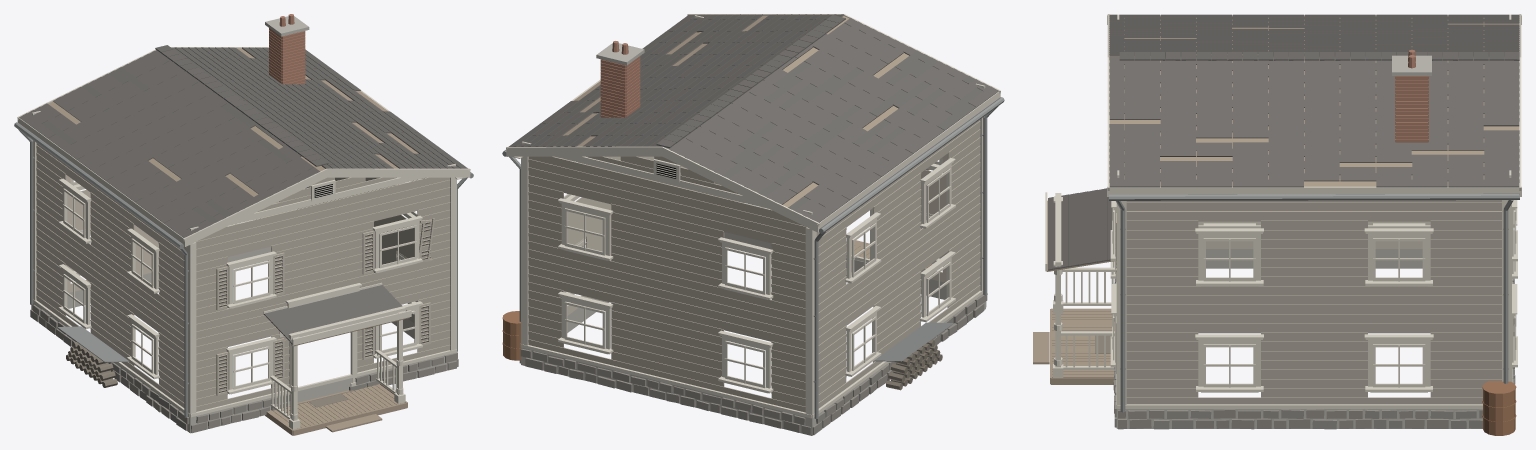
The model's file is road_house.glb.
The picture shows the model from 3 angles, left to right: view 1: azimuth 30°, elevation 25°; view 2: azimuth 150°, elevation 25°; view 3: azimuth 270°, elevation 25°; orthographic projection. The views are drawn at different scales.
Parts seen in each view (by area): view 1: RoadHouse; view 2: RoadHouse; view 3: RoadHouse.
Boxes of the visible parts, left/top/right/bottom form: RoadHouse: left=14, top=14, right=473, bottom=435; RoadHouse: left=502, top=14, right=1004, bottom=435; RoadHouse: left=1033, top=14, right=1521, bottom=435.
Bounding box in the file's own units: 8.77 × 7.44 × 9.52.
